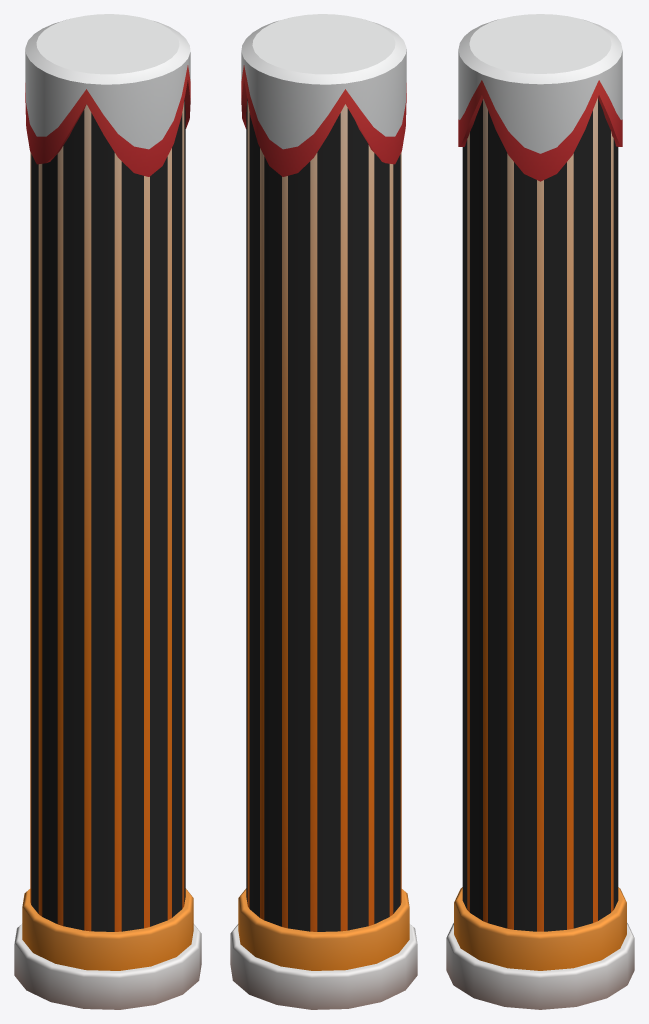
The model's file is Column_17.obj.
3 renders of one model, left to right at view 1: azimuth 30°, elevation 25°; view 2: azimuth 150°, elevation 25°; view 3: azimuth 270°, elevation 25°, orthographic.
Parts seen in each view (by area): view 1: Column_17; view 2: Column_17; view 3: Column_17.
Boxes of the visible parts, left/top/right/bottom form: Column_17: left=14, top=14, right=201, bottom=1009; Column_17: left=230, top=14, right=417, bottom=1009; Column_17: left=446, top=14, right=634, bottom=1009.
Size of the model in its own units: 2.4 by 13 by 2.4.
Materials: 1 (1 with a texture image).
